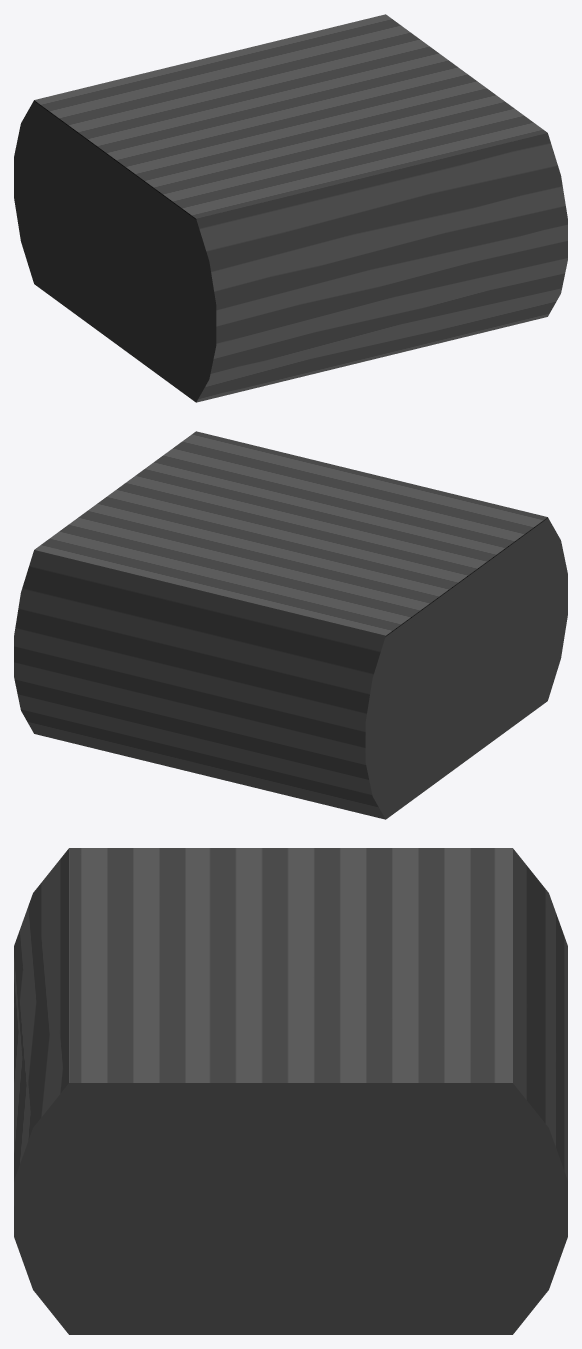
File: Conveyor.glb
3 renders of one model, top to bottom at view 1: azimuth 30°, elevation 25°; view 2: azimuth 150°, elevation 25°; view 3: azimuth 270°, elevation 25°, orthographic. The views are drawn at different scales.
Visible parts, largest first — view 1: Cube; view 2: Cube; view 3: Cube.
Boxes of the visible parts, bbox=[...] form: Cube: bbox=[14, 14, 567, 402]; Cube: bbox=[14, 431, 567, 819]; Cube: bbox=[14, 848, 567, 1334].
Bounding box in the file's own units: 2 × 1 × 1.99.
Materials: 1 (1 with a texture image).
